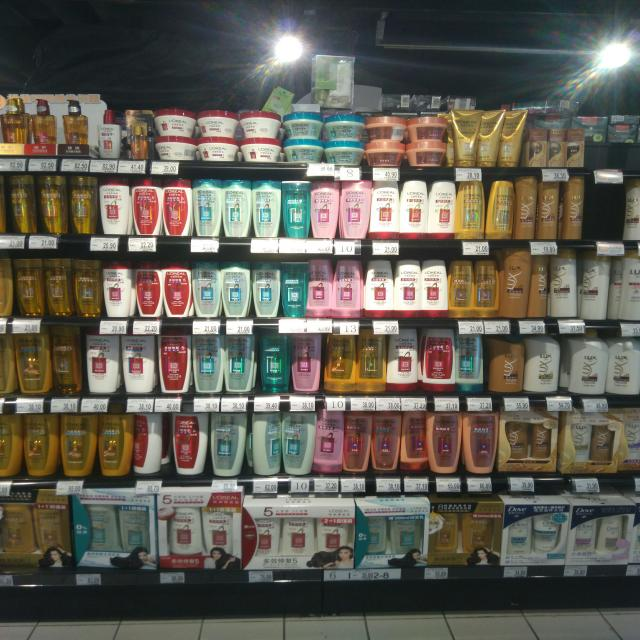unorganised: (69, 487, 159, 572), (532, 249, 612, 323), (249, 411, 316, 476), (479, 107, 528, 168), (132, 411, 170, 477), (398, 409, 430, 474), (307, 258, 332, 319), (559, 335, 574, 391)
